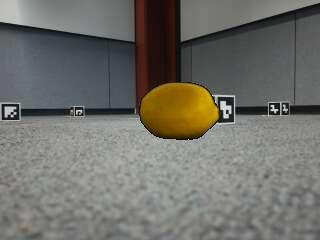lemon: (139, 82, 220, 140)
